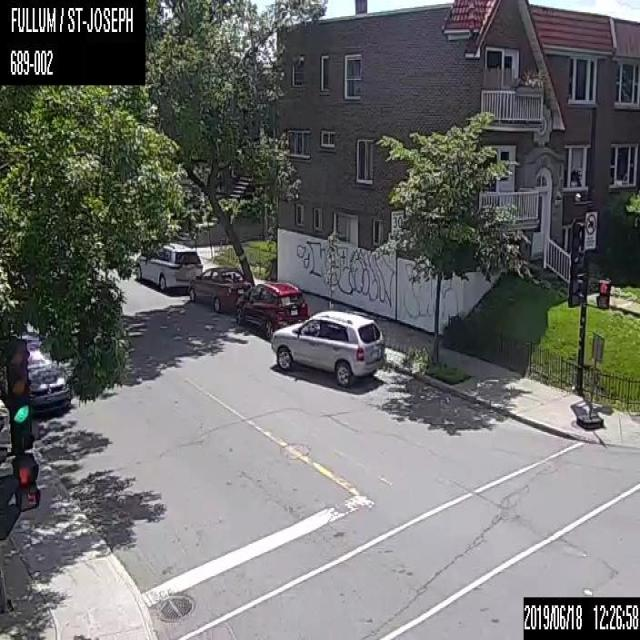construction: (576, 330, 604, 430)
vehicle: (270, 309, 388, 388), (0, 332, 74, 420), (235, 281, 308, 340), (135, 242, 202, 289), (188, 265, 250, 312)
